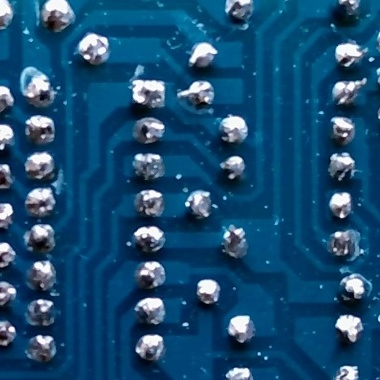?: (128, 73, 168, 109), (26, 113, 58, 148), (77, 32, 111, 64), (135, 224, 168, 256), (336, 40, 366, 73), (25, 225, 55, 255), (27, 334, 58, 362), (342, 270, 372, 298), (28, 298, 57, 325), (137, 334, 166, 360), (334, 0, 361, 24), (0, 242, 17, 268), (224, 367, 255, 380)
drag: (22, 74, 56, 106), (329, 147, 358, 183), (332, 313, 365, 344), (221, 225, 249, 261), (331, 115, 358, 145), (377, 27, 380, 58)
little: (325, 228, 361, 260), (133, 113, 165, 147), (132, 149, 168, 179), (136, 261, 167, 289), (0, 319, 18, 347), (0, 277, 17, 305), (334, 364, 362, 380), (0, 201, 12, 229), (375, 99, 380, 129), (376, 62, 380, 93)
norm: (42, 0, 76, 33), (25, 262, 59, 292), (24, 184, 56, 215), (137, 296, 169, 327), (185, 190, 214, 223), (221, 114, 249, 146), (327, 192, 356, 222), (27, 151, 59, 178), (223, 0, 255, 22), (196, 278, 222, 304), (0, 163, 15, 192), (0, 84, 13, 114), (0, 124, 15, 149)
tip: (178, 80, 218, 109), (133, 188, 165, 219), (333, 77, 365, 108), (188, 38, 217, 70), (227, 314, 255, 346), (217, 155, 245, 180), (0, 0, 14, 29)
